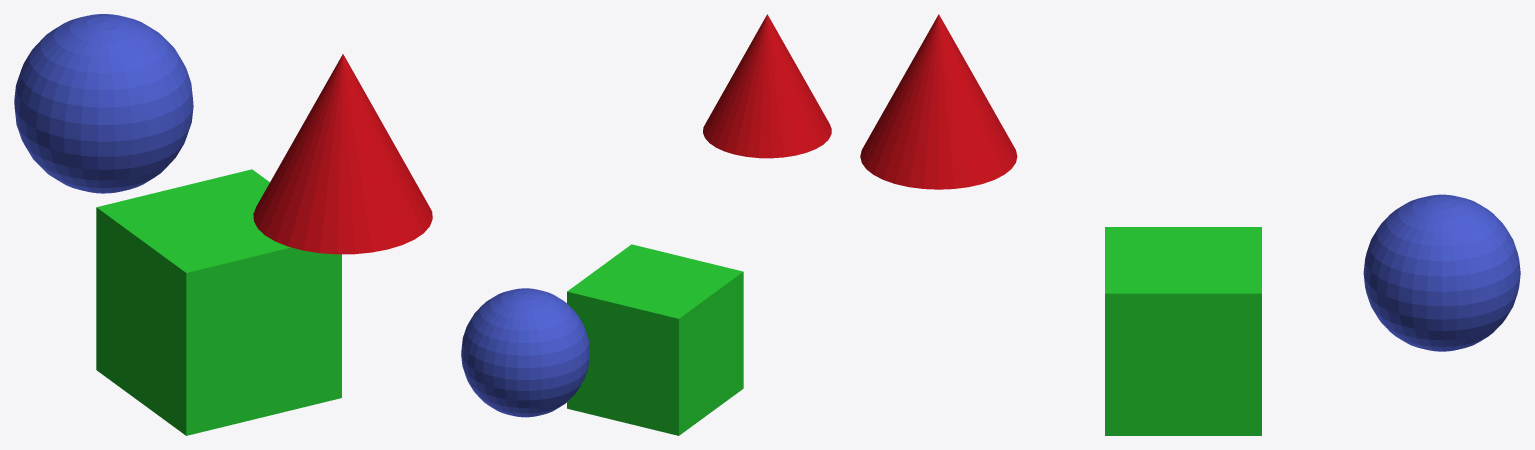
The model's file is shapeso.dae.
The picture shows the model from 3 angles, left to right: view 1: azimuth 30°, elevation 25°; view 2: azimuth 150°, elevation 25°; view 3: azimuth 270°, elevation 25°; orthographic projection. The views are drawn at different scales.
Parts seen in each view (by area): view 1: Cube, Sphere, Cone; view 2: Cube, Sphere, Cone; view 3: Cube, Sphere, Cone.
Part boxes in pixels (box(x1,y1,x2,y2)): Cube: box(96, 169, 341, 435); Sphere: box(14, 14, 193, 193); Cone: box(253, 54, 432, 254); Cube: box(567, 244, 743, 435); Sphere: box(461, 288, 589, 417); Cone: box(703, 14, 831, 158); Cube: box(1105, 227, 1261, 435); Sphere: box(1363, 194, 1520, 351); Cone: box(860, 14, 1017, 189).
Size of the model in its own units: 2.62 by 8.4 by 5.36.
